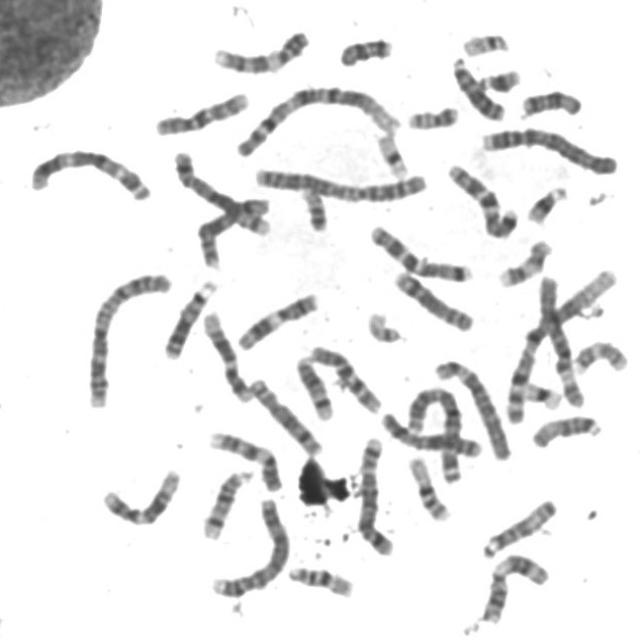A1: (497, 260, 622, 426), (228, 77, 404, 159)
A2: (79, 264, 174, 410), (247, 158, 430, 204)
A3: (22, 142, 154, 203), (400, 380, 466, 484)
B4: (205, 490, 292, 599), (474, 118, 621, 176)
B5: (166, 143, 273, 239), (350, 430, 396, 557)
C10: (304, 338, 384, 415), (148, 84, 252, 138)
C11: (473, 545, 551, 626), (230, 285, 322, 352)
C12: (95, 461, 184, 528), (196, 303, 254, 404)
C6: (428, 352, 514, 462), (531, 268, 588, 410)
C7: (363, 216, 476, 284), (441, 155, 521, 240)
C8: (242, 370, 324, 458), (387, 262, 477, 333)
C9: (206, 21, 314, 76), (202, 424, 284, 493)
D13: (158, 272, 219, 360), (446, 49, 508, 122)
D14: (195, 462, 256, 541), (289, 349, 336, 422)
D15: (475, 491, 560, 560), (526, 407, 604, 450)
E16: (401, 449, 453, 523), (282, 558, 356, 600)
E17: (491, 232, 554, 289), (566, 332, 630, 376)
E18: (514, 82, 584, 120), (333, 30, 395, 68)
F19: (370, 126, 412, 178), (518, 373, 564, 412)
F20: (401, 98, 462, 131), (295, 180, 332, 232)
G21: (520, 178, 570, 225), (473, 61, 523, 94)
G22: (360, 304, 406, 345), (456, 26, 512, 58)
X: (373, 406, 484, 460)
